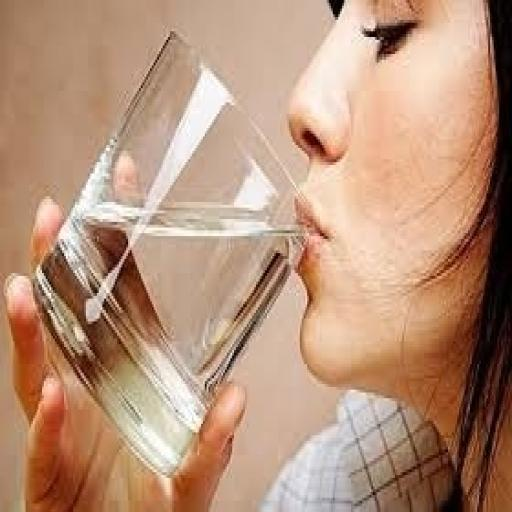drinking: (29, 25, 315, 478)
